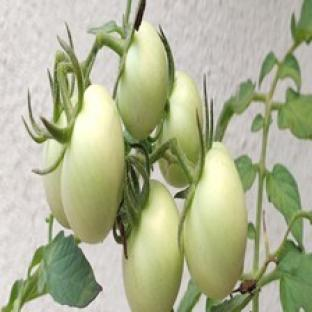Tomato: (183, 143, 247, 299), (62, 85, 125, 243), (123, 180, 182, 311), (117, 21, 168, 139), (159, 72, 203, 164), (44, 162, 69, 228)
